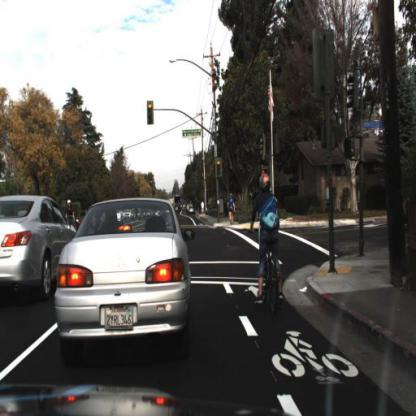biker: (242, 167, 286, 318), (65, 191, 78, 234)
car: (49, 194, 201, 378), (1, 196, 83, 302)
pedestrian: (224, 187, 238, 229), (200, 197, 207, 220)
trafficLight-Red: (147, 104, 160, 139), (214, 154, 225, 181), (146, 102, 154, 128)
